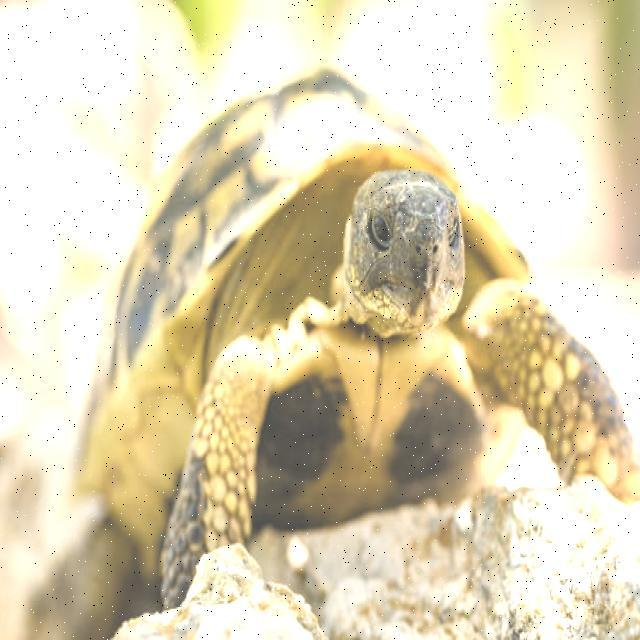tortoise: (74, 80, 640, 598)
